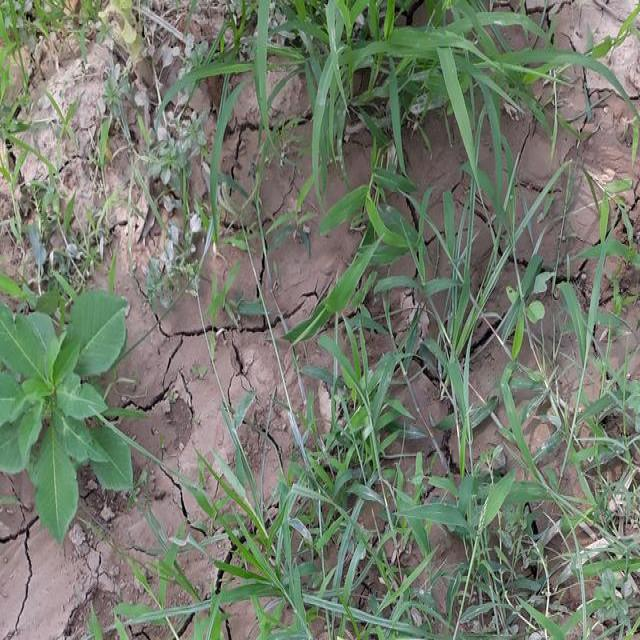weed: (232, 393, 640, 640), (223, 1, 540, 160)
